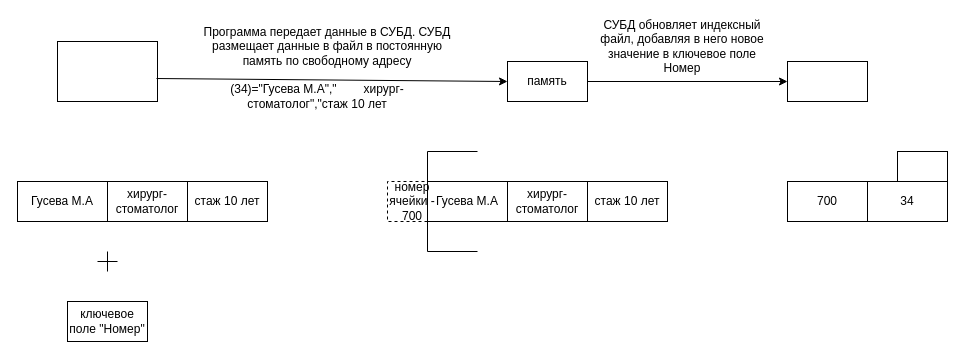
The diagram is 965 pixels wide and 359 high, and some of its shapes have lost their labels. The shapes that lost their labels are listed below. From the top down, each one's centre as x and y in pixels, then its label:
(x=107, y=71): Новые данные пользователь вводит в программу
(x=827, y=81): индекс
(x=922, y=166): Ключ "Номер"
